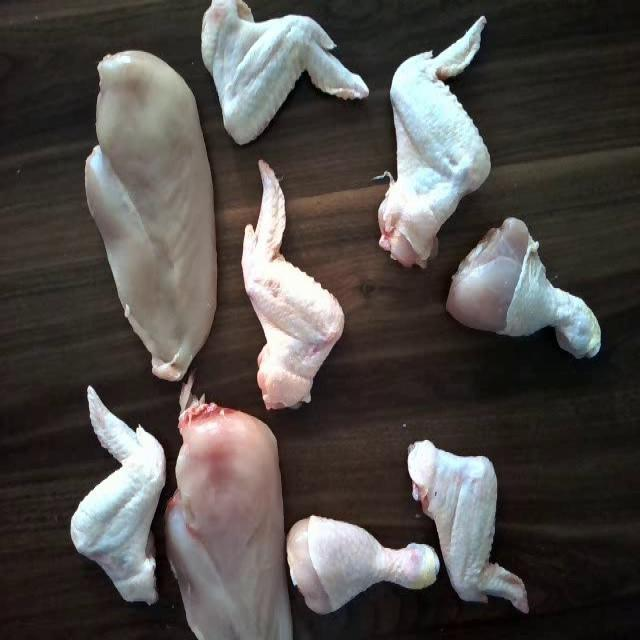breast: (82, 54, 216, 369), (158, 397, 296, 640)
leg: (454, 199, 604, 379), (278, 498, 438, 622)
wing: (229, 154, 354, 420), (376, 14, 498, 278), (196, 0, 366, 138), (406, 439, 530, 618), (70, 383, 172, 593)
